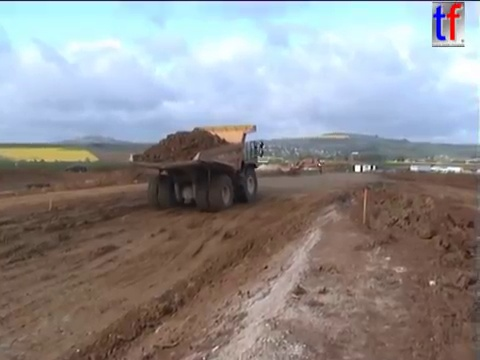truck: (127, 122, 264, 213)
